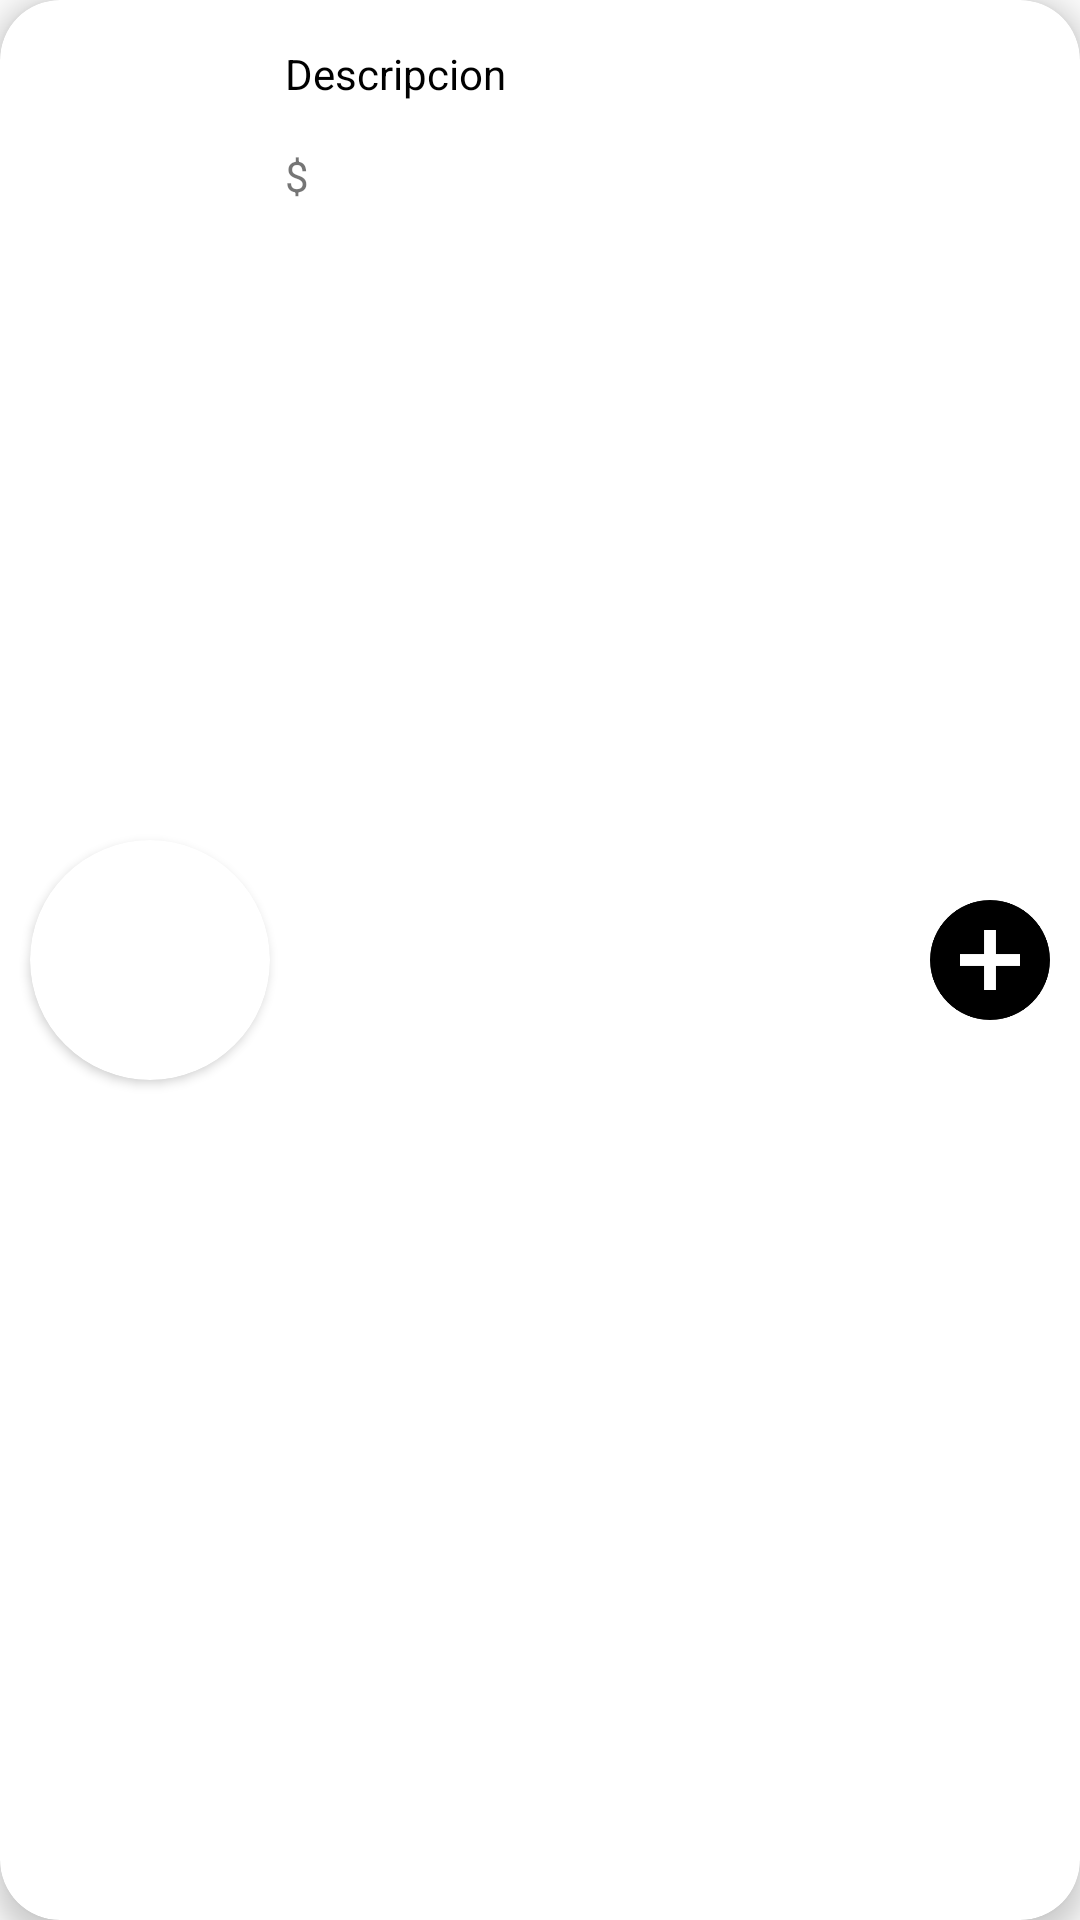

Where to tap for icons on this 1080 × 1920 app screen, as (x,y):
plus: (990,960)
